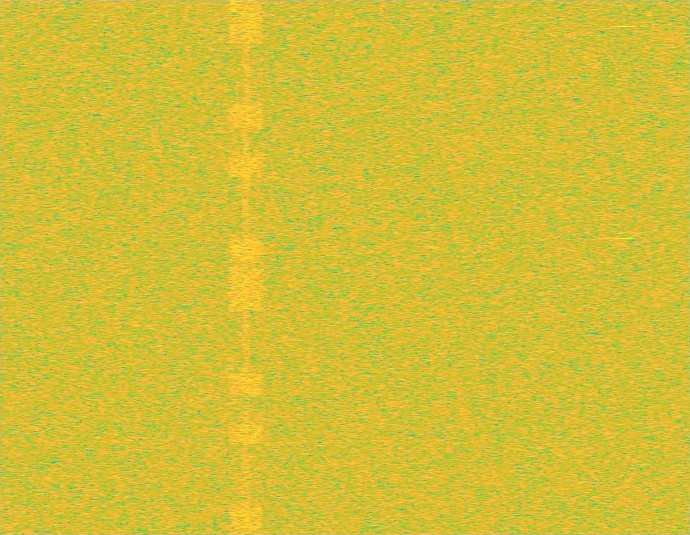DSSS: (242, 0, 250, 534)
LTE: (229, 0, 263, 534)
Radar: (617, 0, 631, 534)
